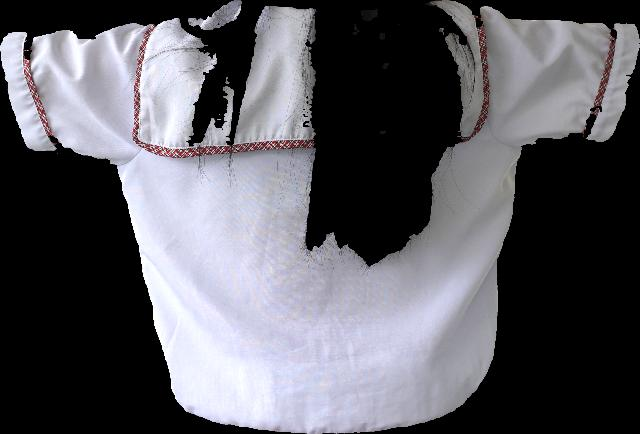pologirl: (0, 1, 639, 433)
